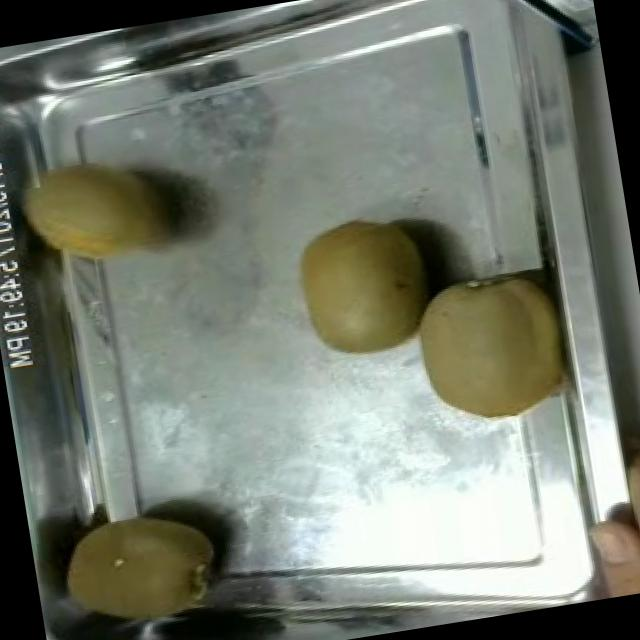Fruit: (397, 262, 579, 443), (40, 491, 243, 640), (280, 202, 451, 377), (2, 134, 195, 282)
